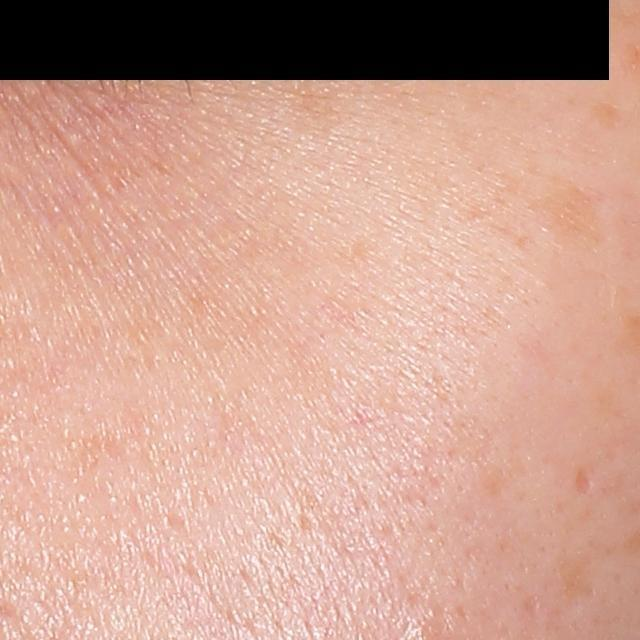melasma: (552, 186, 607, 241), (588, 97, 623, 132)
